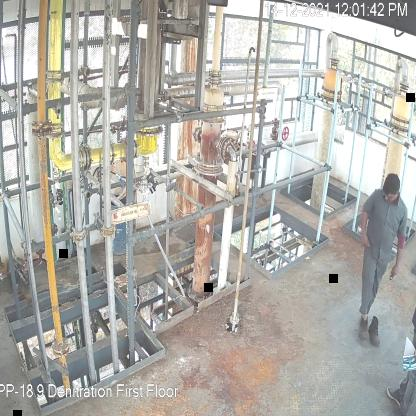shoes: (369, 316, 382, 349), (358, 319, 369, 347)
